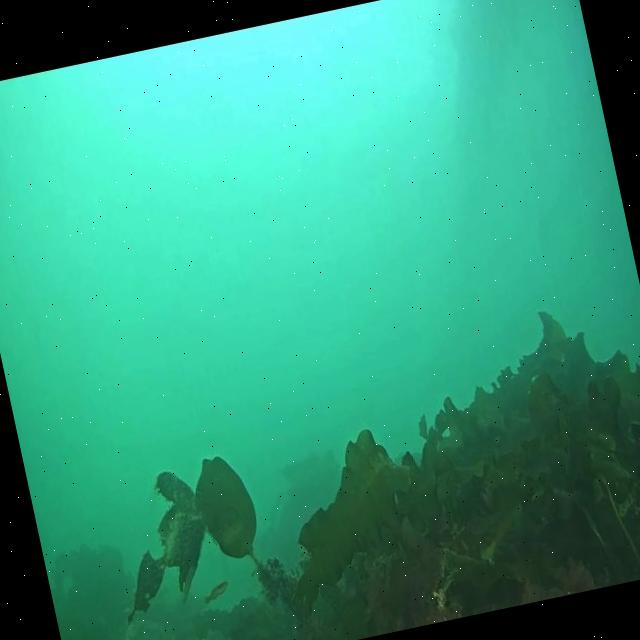fish: (201, 578, 232, 606)
